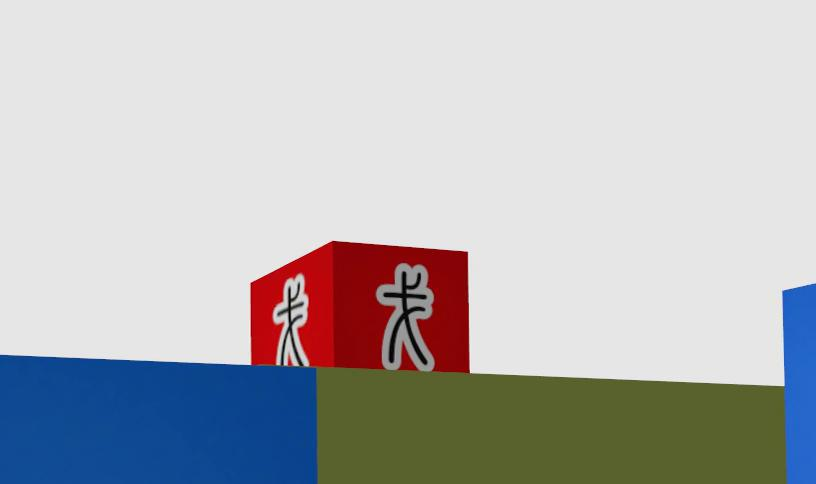KFS_FAKE: (251, 241, 469, 371), (377, 263, 433, 370), (274, 274, 308, 365)
KFS_REAL: (0, 357, 315, 484)
